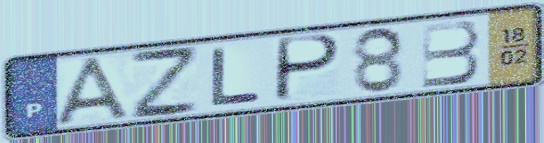8: (349, 25, 408, 97)
A: (49, 53, 138, 127)
B: (419, 17, 484, 90)
L: (208, 45, 266, 109)
P: (271, 32, 345, 105)
Z: (127, 46, 203, 123)
